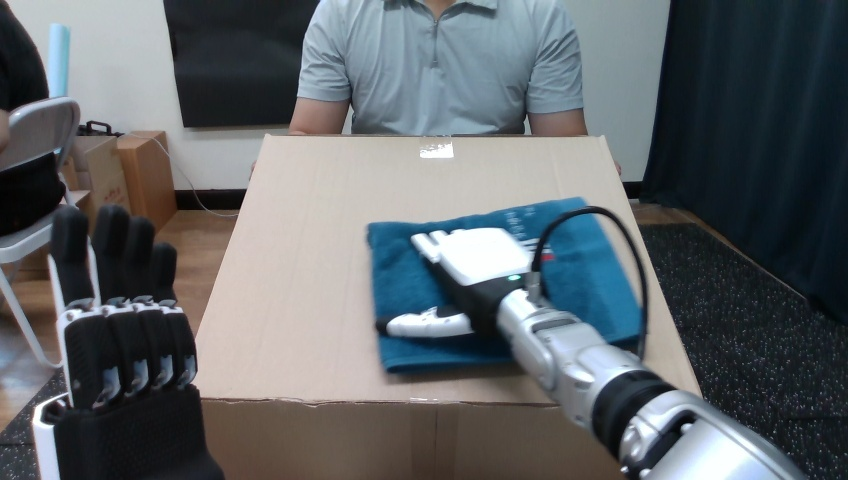left robot hand: (376, 206, 804, 479), (33, 205, 222, 479), (540, 213, 643, 357)
